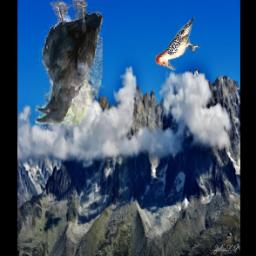Crow: (35, 0, 103, 125)
Woodpecker: (155, 18, 201, 71)
